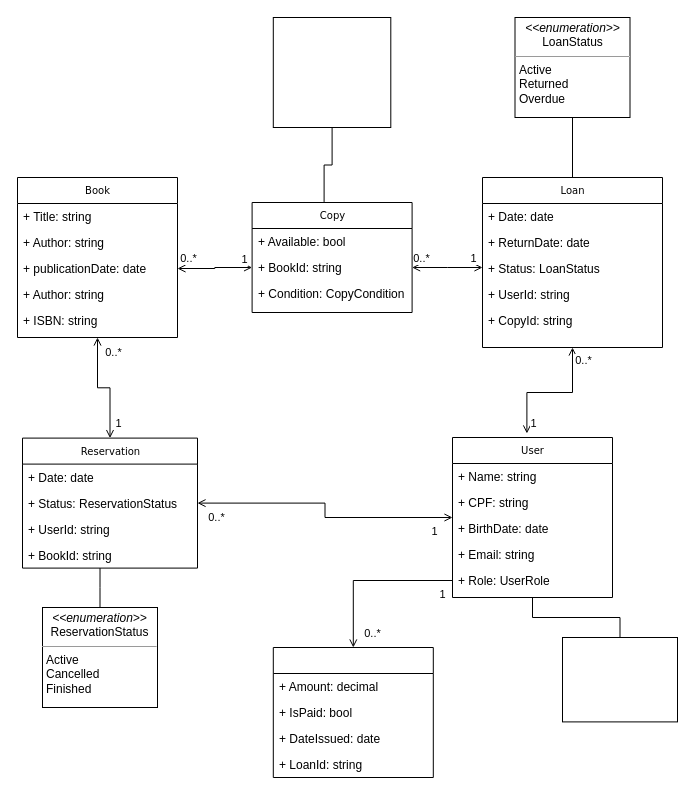
The diagram is 695 pixels wide and 798 high, and some of its shapes have lost their labels. Here are the shapes that lost their labels. From the top down, the box of each, then its label:
(272, 16, 391, 128): <<enumeration>> CopyCondition New Used Damaged Lost
(562, 636, 678, 722): <<enumeration>> UserRole Admin Member
(272, 646, 433, 778): Fine
